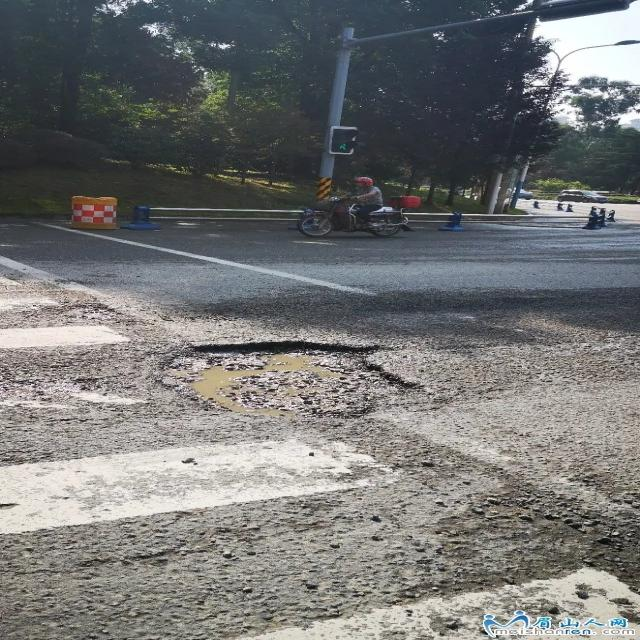Pothole: (150, 337, 438, 427)
